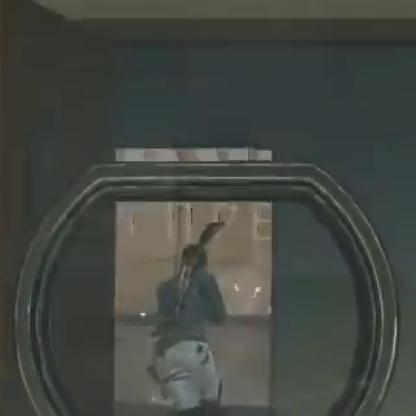enemy: (150, 222, 230, 414), (181, 242, 208, 273)
